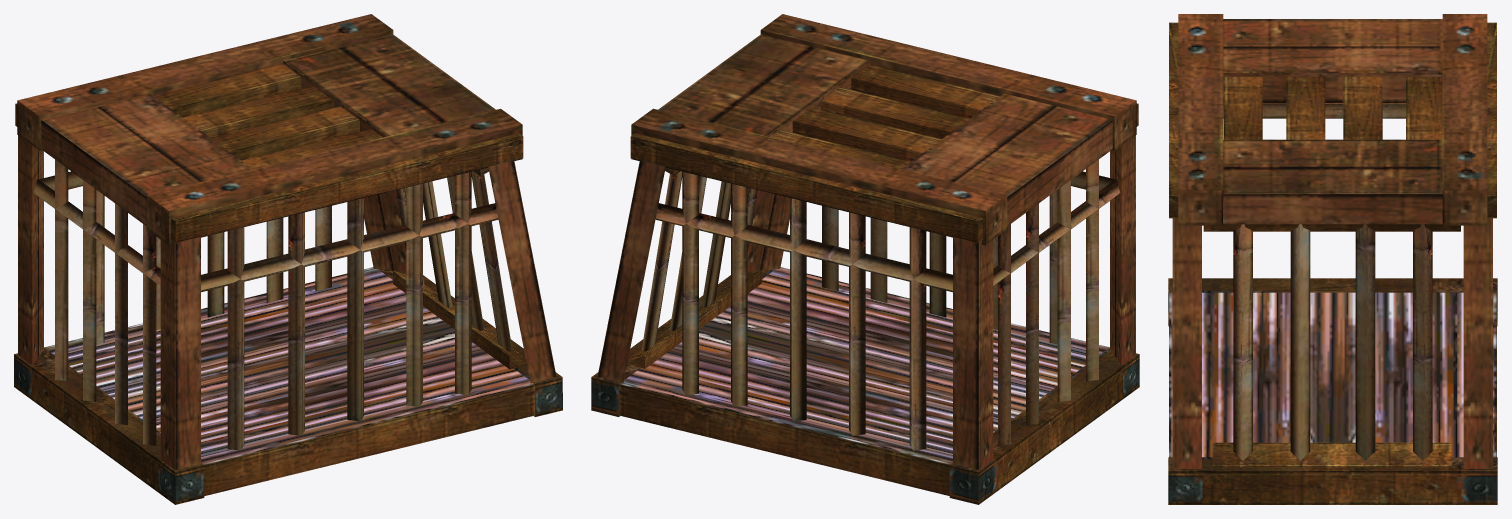
File: thm_endr_cage_bamboo_l0.fbx
3 renders of one model, left to right at view 1: azimuth 30°, elevation 25°; view 2: azimuth 150°, elevation 25°; view 3: azimuth 270°, elevation 25°, orthographic. The views are drawn at different scales.
Visible parts, largest first — view 1: mesh_node; view 2: mesh_node; view 3: mesh_node.
Boxes of the visible parts, x1,y1,x2,y2 form: mesh_node: [14, 14, 562, 504]; mesh_node: [591, 14, 1139, 504]; mesh_node: [1168, 14, 1497, 504].
Bounding box in the file's own units: 0.979 × 0.6988 × 0.7019.
Materials: 1 (1 with a texture image).
